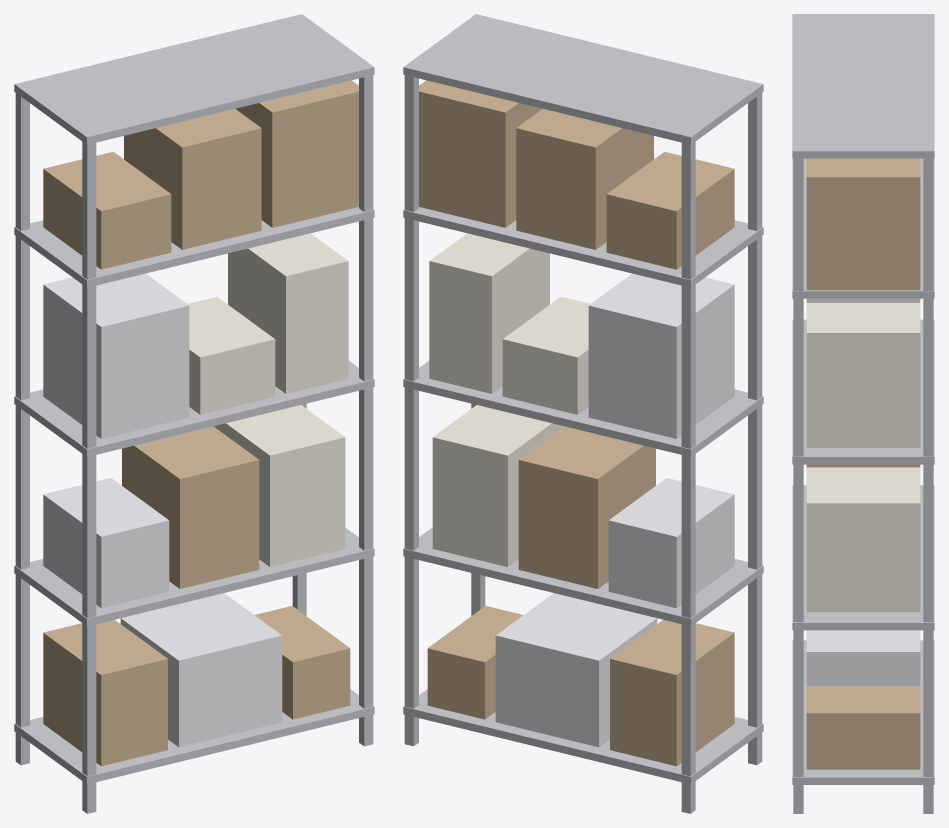
Rendered from storage_shelf.glb.
3 renders of one model, left to right at view 1: azimuth 30°, elevation 25°; view 2: azimuth 150°, elevation 25°; view 3: azimuth 270°, elevation 25°, orthographic. The views are drawn at different scales.
Visible parts, largest first — view 1: storage_shelf; view 2: storage_shelf; view 3: storage_shelf.
Part boxes in pixels (box(x1,y1,x2,y2)): storage_shelf: box(14, 14, 374, 813); storage_shelf: box(403, 14, 763, 813); storage_shelf: box(792, 14, 934, 813).
Bounding box in the file's own units: 0.8 × 1.8 × 0.35.
